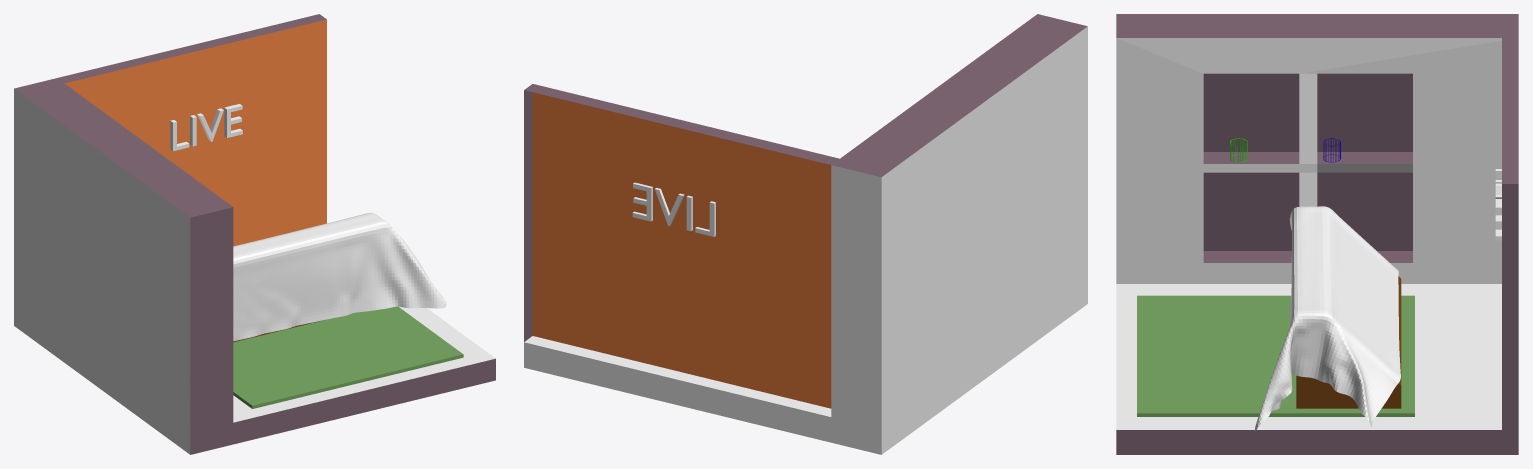
The picture shows the model from 3 angles, left to right: view 1: azimuth 30°, elevation 25°; view 2: azimuth 150°, elevation 25°; view 3: azimuth 270°, elevation 25°; orthographic projection. The views are drawn at different scales.
Visible parts, largest first — view 1: room; view 2: room; view 3: room.
Part boxes in pixels (bbox=[...]): room: bbox=[14, 14, 495, 454]; room: bbox=[524, 14, 1087, 454]; room: bbox=[1116, 14, 1518, 454].
Size of the model in its own units: 3.65 by 2.6 by 3.51.
